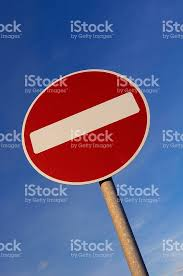No_entry: (22, 68, 150, 186)
